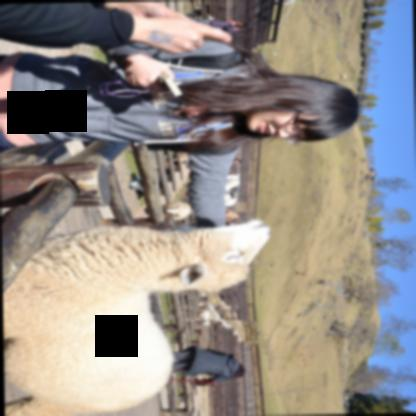backpack: (143, 48, 244, 156), (229, 27, 239, 29)
